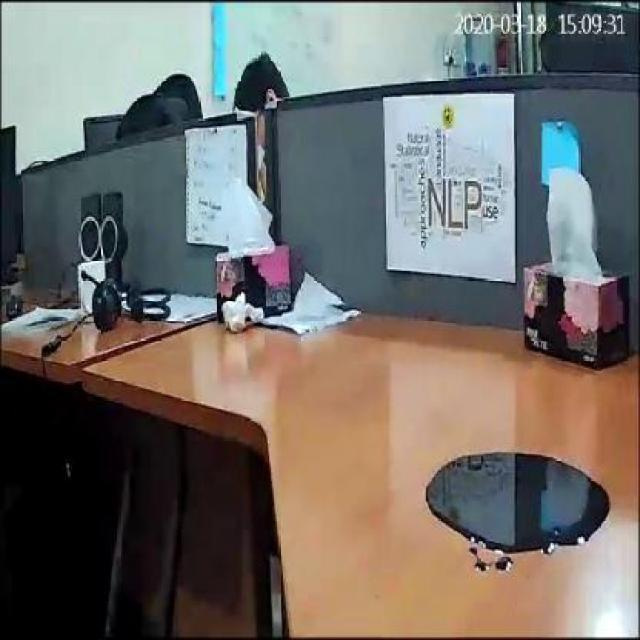spill: (426, 448, 609, 556)
